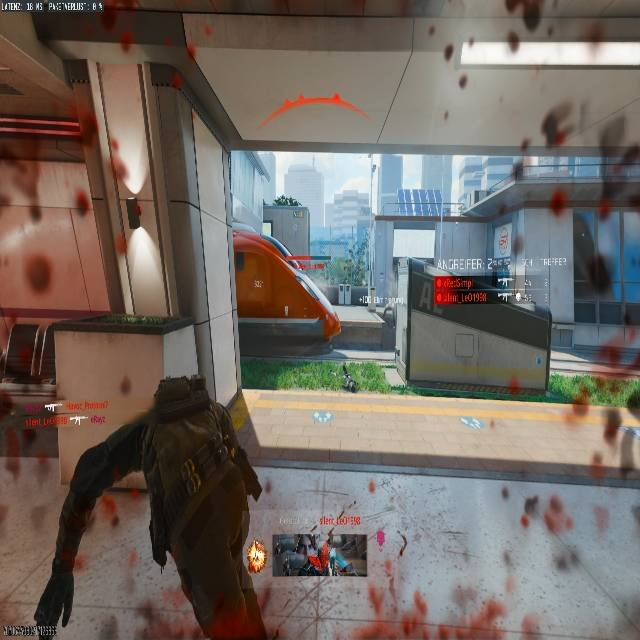player: (31, 375, 262, 640), (382, 308, 393, 328)
